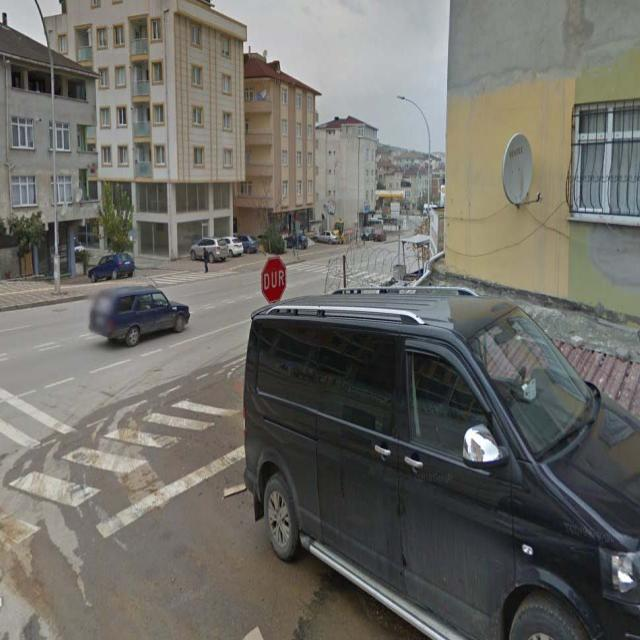dur: (262, 258, 286, 302)
